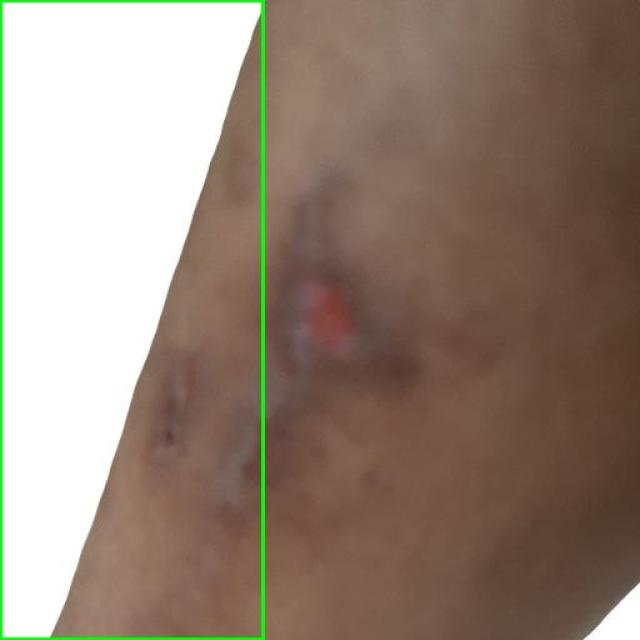Atopic Dermatitis: (0, 0, 262, 639)
